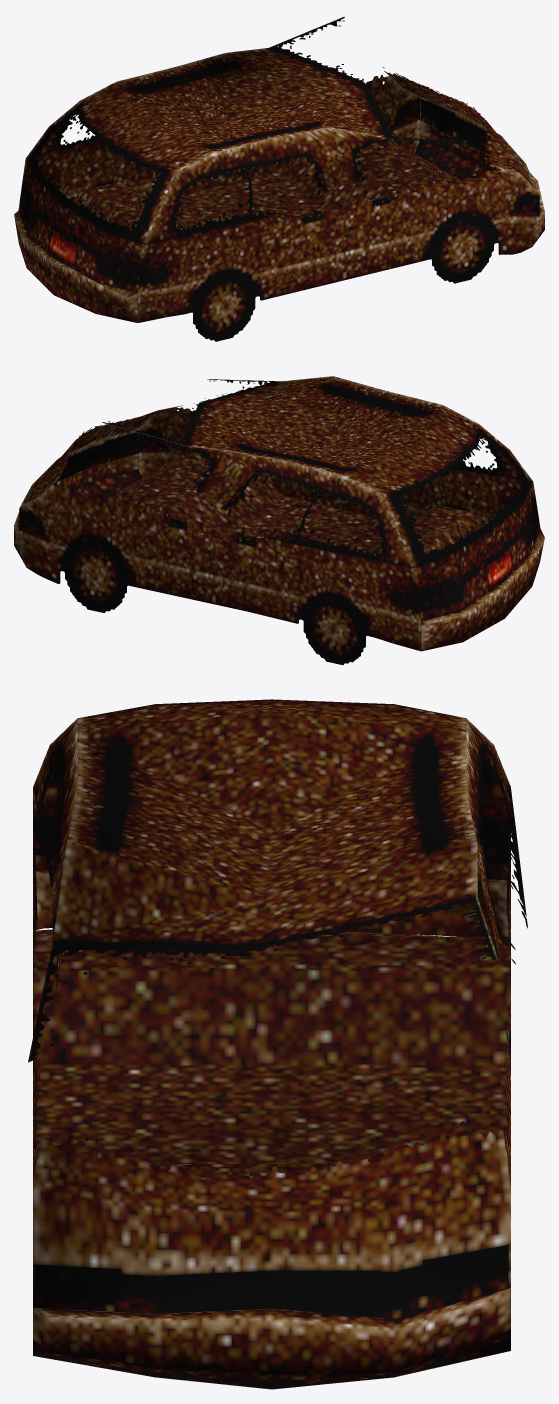
File: PREVIAD.obj
The picture shows the model from 3 angles, top to bottom: view 1: azimuth 30°, elevation 25°; view 2: azimuth 150°, elevation 25°; view 3: azimuth 270°, elevation 25°; orthographic projection. The views are drawn at different scales.
Visible parts, largest first — view 1: destroyed; view 2: destroyed; view 3: destroyed.
Part boxes in pixels (x1,y1,x2,y2): destroyed: (14, 16, 544, 341); destroyed: (14, 376, 544, 664); destroyed: (28, 699, 527, 1389).
Size of the model in its own units: 192 by 75.94 by 90.95.
